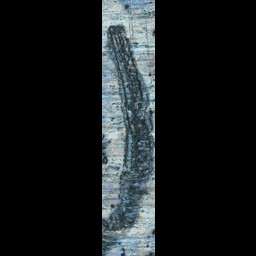d: (103, 21, 154, 251)
